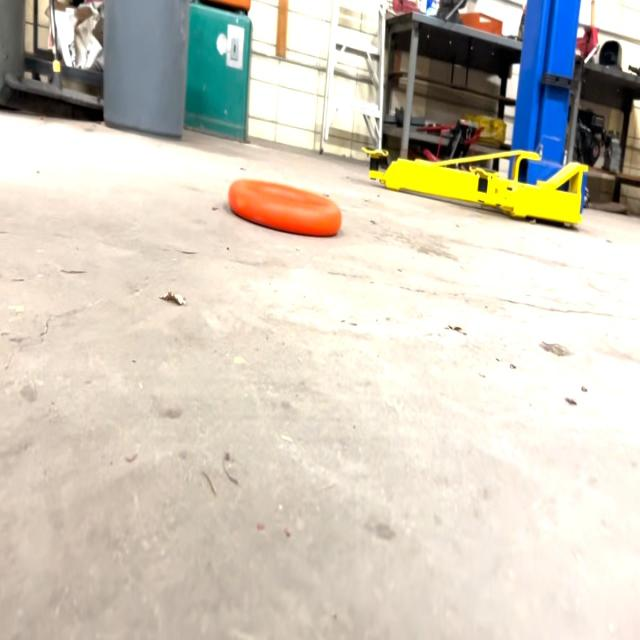note: (228, 169, 344, 238)
